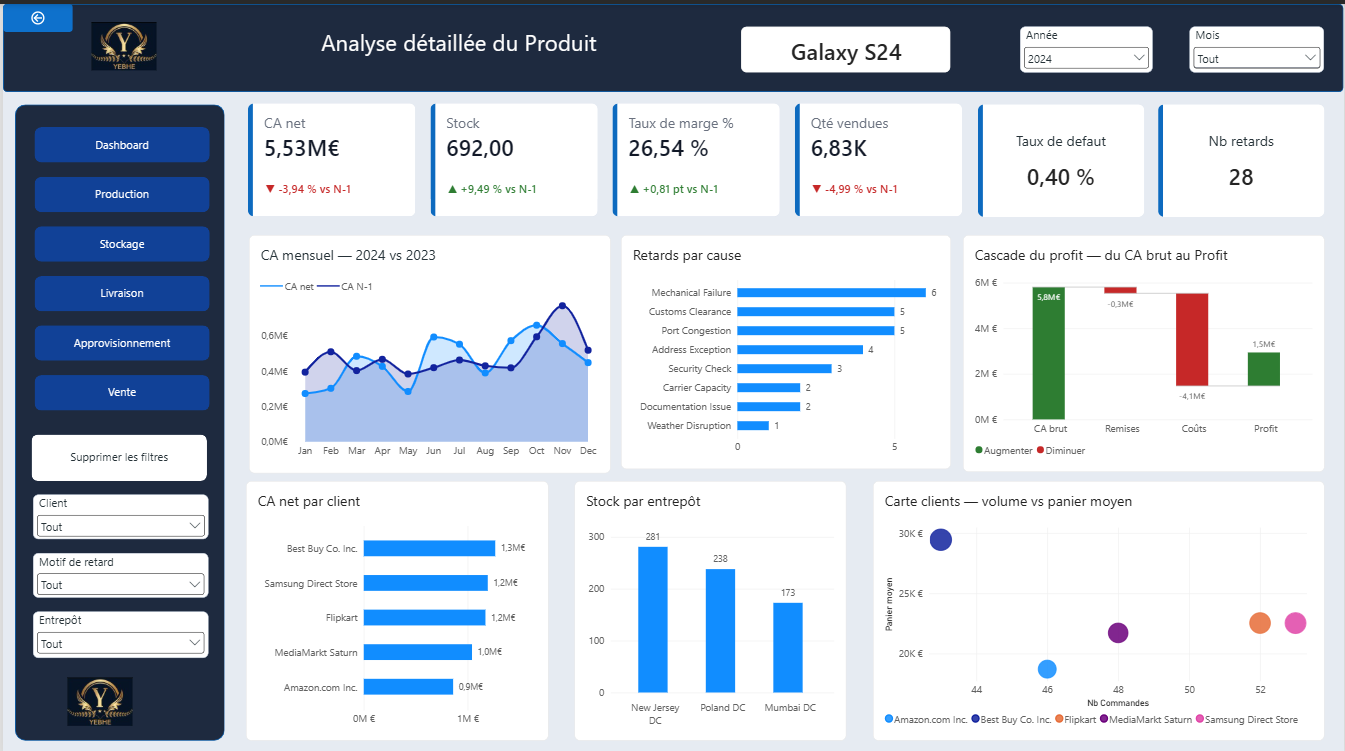

What the dashboard file says about the page in this screenshot:
{"tool":"powerbi","page":{"name":"Fiche Produit","canvas":[1920,1080],"ordinal":6},"visuals":[{"type":"shape","box":[18,143.7,300.3,911.2],"z":0},{"type":"clusteredColumnChart","title":"Stock par entrepôt","fields":{"Category":["dim_facility.facility_name"],"Y":["_Mesures.Stock"]},"box":[819,683.6,389.2,372.3],"z":1000},{"type":"cardVisual","fields":{"Data":["_Mesures.CA net","_Mesures.Stock","_Mesures.Taux de marge %","_Mesures.Qté vendues"]},"box":[350.2,141.8,1024.9,163.3],"z":2000},{"type":"shape","box":[0,0,1920,126],"z":3000},{"type":"clusteredBarChart","title":"CA net par client","fields":{"Category":["dim_customer.customer_name"],"Y":["_Mesures.CA net"]},"box":[348.6,683.6,433.2,372.3],"z":4000},{"type":"slicer","fields":{"Values":["dim_date.year Hierarchy.month_name"]},"box":[1700.6,31.7,192.7,65.9],"z":5000},{"type":"scatterChart","title":"Carte clients — volume vs panier moyen","fields":{"Category":["dim_customer.customer_name"],"Series":["dim_customer.customer_name"],"Size":["_Mesures.CA net"],"X":["_Mesures.Nb Commandes"],"Y":["_Mesures.Panier moyen"]},"box":[1245.4,683.6,646.4,372.3],"z":6000},{"type":"slicer","fields":{"Values":["dim_date.year Hierarchy.year"]},"box":[1456.5,31.7,190.3,65.9],"z":7000},{"type":"textbox","box":[350.2,32.2,605.8,53.9],"z":8000},{"type":"image","box":[105.3,25.8,136,69.3],"z":9000},{"type":"image","box":[71.9,965.1,136,69.3],"z":10000},{"type":"slicer","fields":{"Values":["dim_customer.customer_name"]},"box":[42.7,703.2,251.5,64.2],"z":11000},{"type":"slicer","fields":{"Values":["fact_shipment.delay_reason"]},"box":[42.7,786.9,251,64.1],"z":12000},{"type":"slicer","fields":{"Values":["dim_facility.facility_name"]},"box":[42.7,870.5,251,66.8],"z":13000},{"type":"actionButton","box":[40.8,616.6,251.4,66.6],"z":14000},{"type":"lineChart","title":"CA mensuel — 2024 vs 2023","fields":{"Category":["dim_date.year Hierarchy.month_name"],"Y":["_Mesures.CA net","_Mesures.CA net LY"]},"box":[352.4,330.9,517.8,341.6],"z":16000},{"type":"actionButton","box":[0,0,100,40],"z":17000},{"type":"cardVisual","fields":{"Data":["_Mesures.Titre fiche produit"]},"box":[1057.1,32.2,300.8,66.6],"z":18000},{"type":"cardVisual","fields":{"Data":["_Mesures.Taux de defaut","_Mesures.Nb retards"]},"box":[1396.6,144,496.3,161.1],"z":19000},{"type":"clusteredBarChart","title":"Retards par cause","fields":{"Category":["fact_shipment.delay_reason"],"Y":["_Mesures.Nb retards"]},"box":[885.2,330.9,472.9,335.6],"z":20000},{"type":"waterfallChart","title":"Cascade du profit — du CA brut au Profit","fields":{"Category":["Etape cascade.Etape"],"Y":["_Mesures.Valeur cascade"]},"box":[1375.1,330.9,517.8,339.5],"z":21000},{"type":"pageNavigator","box":[45.1,176.2,251.4,406.1],"z":22000}]}

Visuals, with their boxes in screenshot pixels (x1, y1, x2, y2), scaled from the page's 1920x1080 canvas onto the 1345x751 screenshot:
shape: <box>13,100,223,734</box>
"Stock par entrepôt" clusteredColumnChart: <box>574,475,846,734</box>
cardVisual - _Mesures.CA net x _Mesures.Stock: <box>245,99,963,212</box>
shape: <box>0,0,1344,88</box>
"CA net par client" clusteredBarChart: <box>244,475,548,734</box>
slicer - dim_date.year Hierarchy.month_name: <box>1191,22,1326,68</box>
"Carte clients — volume vs panier moyen" scatterChart: <box>872,475,1325,734</box>
slicer - dim_date.year Hierarchy.year: <box>1020,22,1154,68</box>
textbox: <box>245,22,670,60</box>
image: <box>74,18,169,66</box>
image: <box>50,671,146,719</box>
slicer - dim_customer.customer_name: <box>30,489,206,534</box>
slicer - fact_shipment.delay_reason: <box>30,547,206,592</box>
slicer - dim_facility.facility_name: <box>30,605,206,652</box>
actionButton: <box>29,429,205,475</box>
"CA mensuel — 2024 vs 2023" lineChart: <box>247,230,610,468</box>
actionButton: <box>0,0,70,28</box>
cardVisual - _Mesures.Titre fiche produit: <box>741,22,951,69</box>
cardVisual - _Mesures.Taux de defaut x _Mesures.Nb retards: <box>978,100,1326,212</box>
"Retards par cause" clusteredBarChart: <box>620,230,951,463</box>
"Cascade du profit — du CA brut au Profit" waterfallChart: <box>963,230,1326,466</box>
pageNavigator: <box>32,123,208,405</box>
